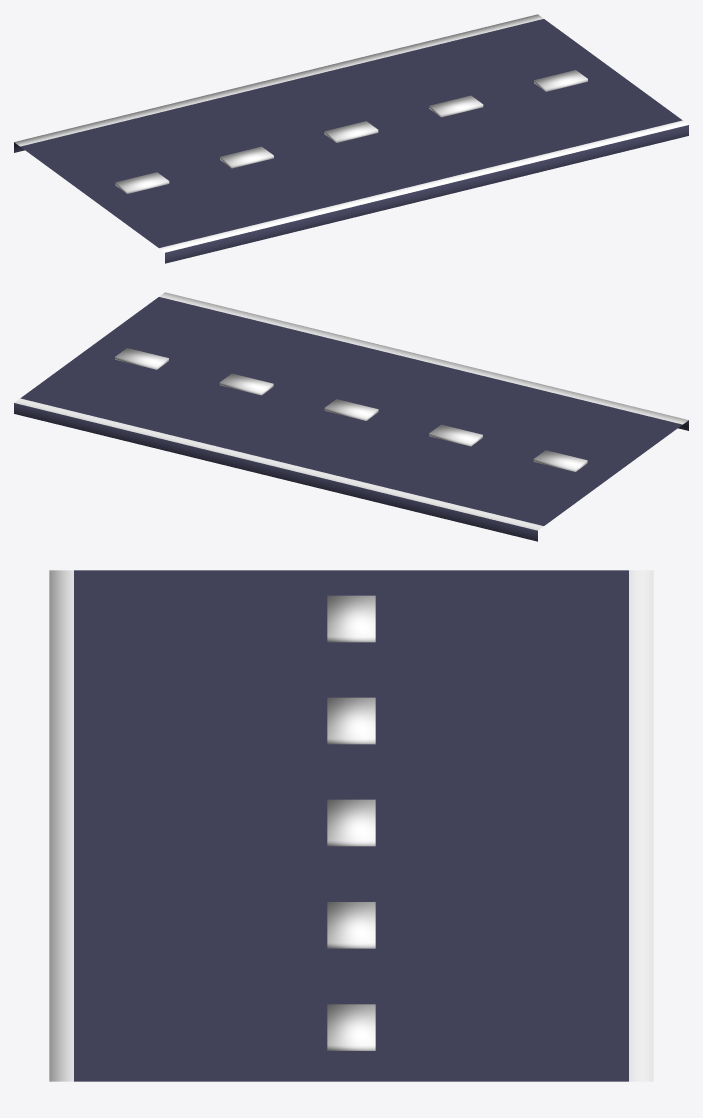
File: Road.glb
The picture shows the model from 3 angles, top to bottom: view 1: azimuth 30°, elevation 25°; view 2: azimuth 150°, elevation 25°; view 3: azimuth 270°, elevation 25°; orthographic projection. The views are drawn at different scales.
Visible parts, largest first — view 1: RoadPiece; view 2: RoadPiece; view 3: RoadPiece.
Part boxes in pixels (<box>): RoadPiece: <box>14,14,688,263</box>; RoadPiece: <box>14,292,688,541</box>; RoadPiece: <box>49,570,653,1081</box>.
Size of the model in its own units: 20 by 0.506 by 9.99.
